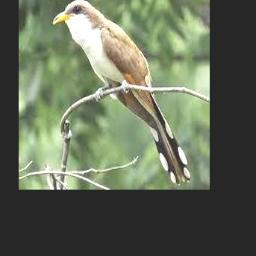Cuckoo: (54, 0, 191, 186)
